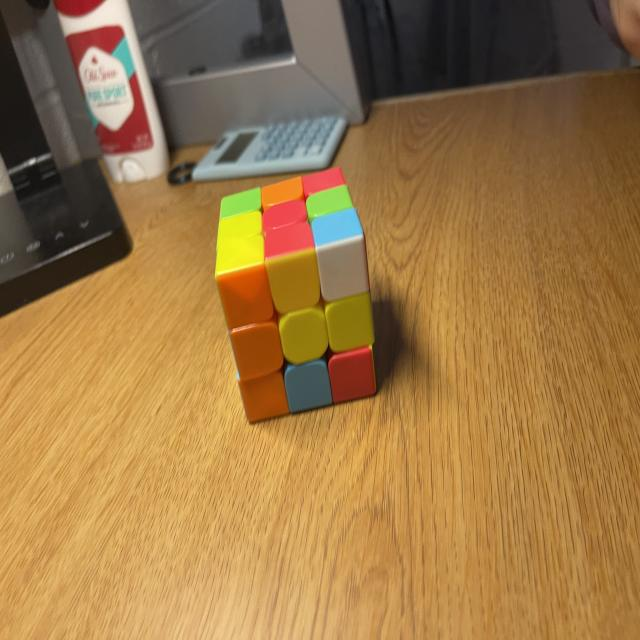Rubiks Cube: (216, 167, 377, 426)
